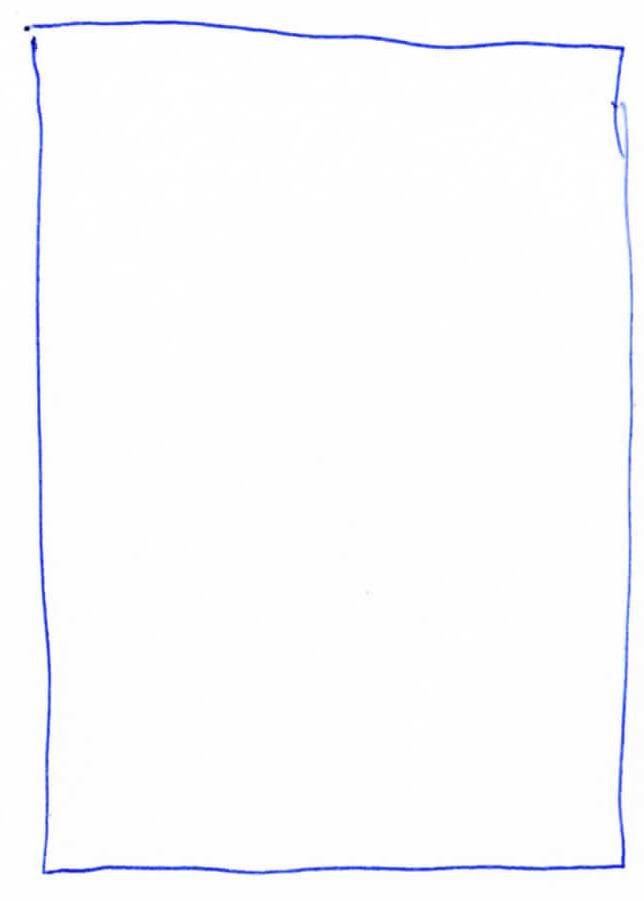Screen: (25, 21, 629, 875)
